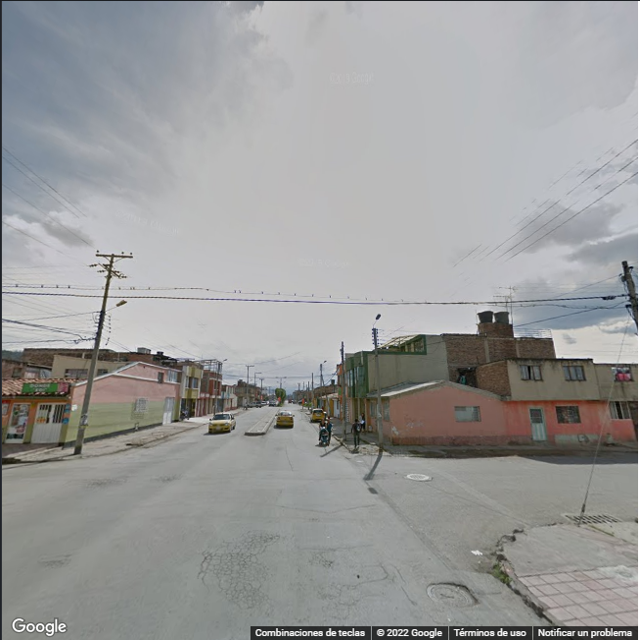D00: (381, 563, 422, 607)
D10: (333, 575, 393, 587)
D20: (199, 524, 272, 610)
